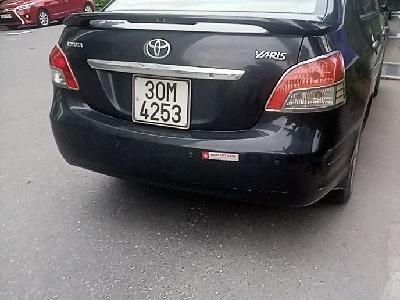car: (132, 74, 190, 129)
